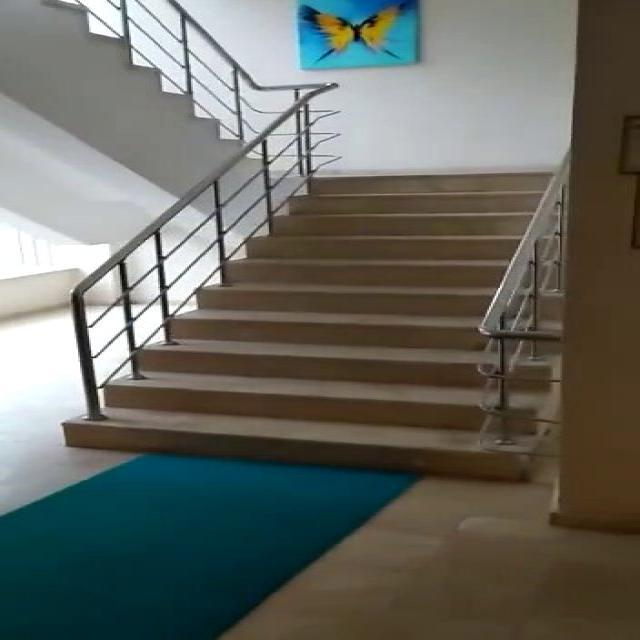stair: (43, 145, 565, 485)
